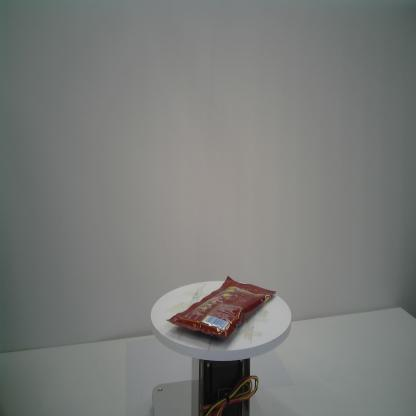Candy: (165, 274, 277, 344)
